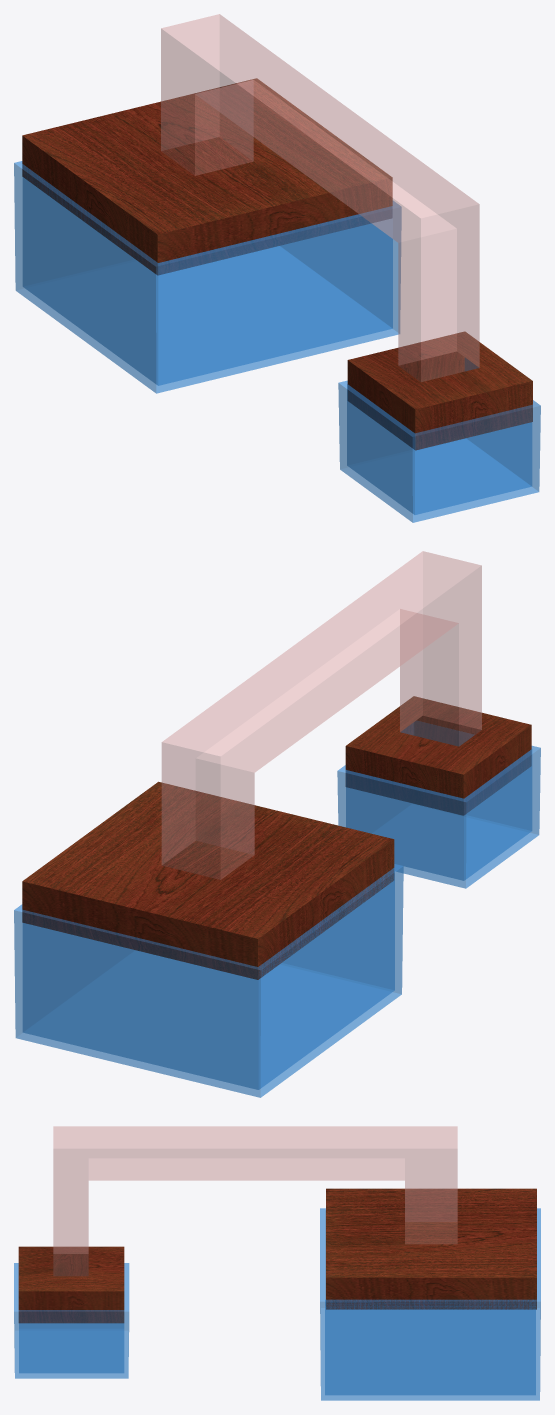
Rendered from Cooking.FBX.
3 renders of one model, top to bottom at view 1: azimuth 30°, elevation 25°; view 2: azimuth 150°, elevation 25°; view 3: azimuth 270°, elevation 25°, orthographic. The views are drawn at different scales.
Visible parts, largest first — view 1: Tube, Large, Small; view 2: Tube, Large, Small; view 3: Tube, Large, Small.
Boxes of the visible parts, x1,y1,x2,y2 form: Tube: (22, 14, 532, 450); Large: (14, 161, 401, 393); Small: (338, 358, 540, 522); Tube: (22, 551, 531, 979); Large: (14, 864, 403, 1097); Small: (337, 721, 540, 888); Tube: (18, 1126, 536, 1323); Large: (320, 1208, 540, 1400); Small: (14, 1263, 129, 1378).
Size of the model in its own units: 62.83 by 68 by 150.
Materials: 3 (1 with a texture image).
